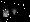person: (12, 8, 19, 18), (4, 7, 10, 17)
